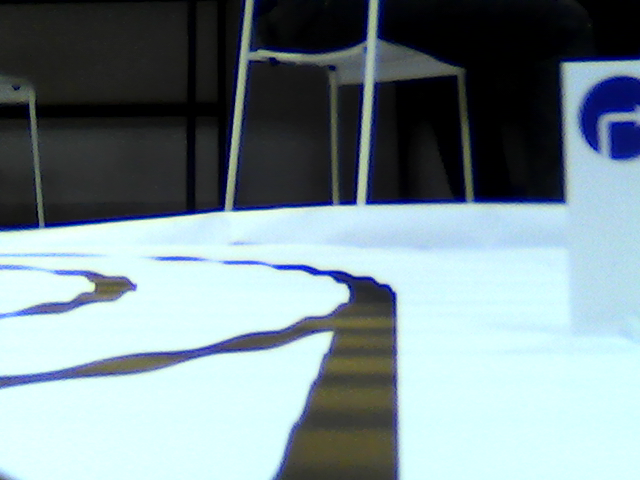Right: (576, 72, 640, 162)
